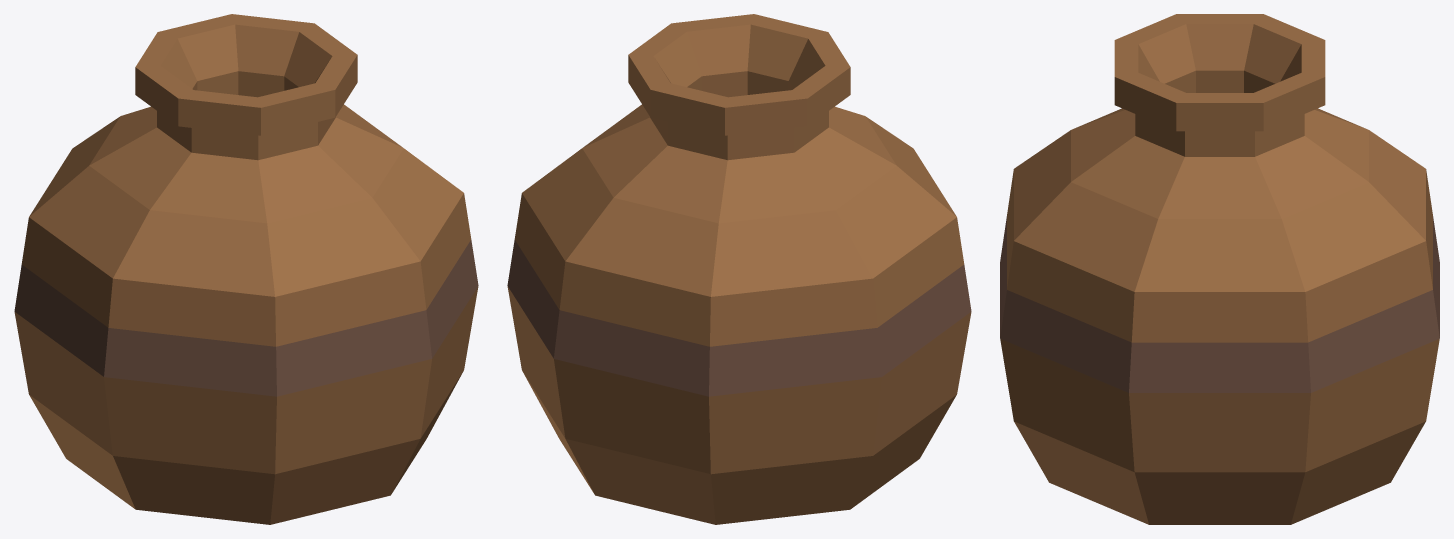
Rendered from Jug_04.fbx.
3 renders of one model, left to right at view 1: azimuth 30°, elevation 25°; view 2: azimuth 150°, elevation 25°; view 3: azimuth 270°, elevation 25°, orthographic.
Parts seen in each view (by area): view 1: Jug_04; view 2: Jug_04; view 3: Jug_04.
Part boxes in pixels (left/top/right/bottom): Jug_04: left=14, top=14, right=478, bottom=524; Jug_04: left=507, top=14, right=971, bottom=524; Jug_04: left=1000, top=14, right=1439, bottom=524.
Size of the model in its own units: 43.87 by 44.93 by 43.87.
